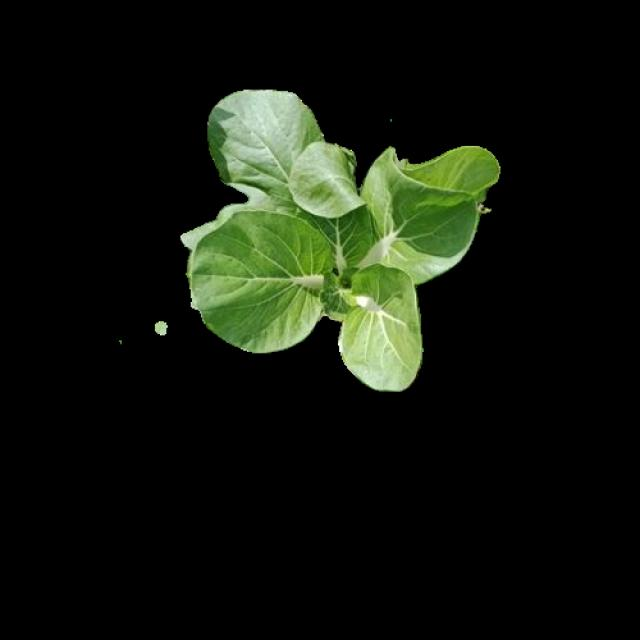healthy: (193, 96, 502, 389)
mature: (193, 106, 499, 387)
